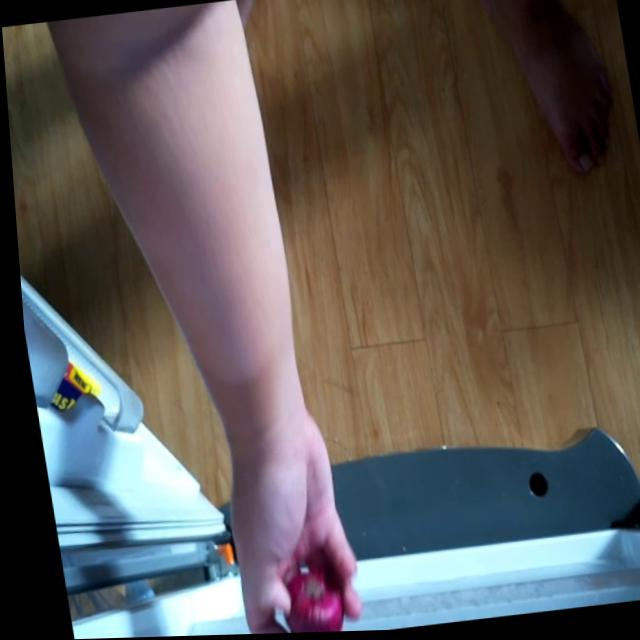onion: (259, 549, 338, 635)
